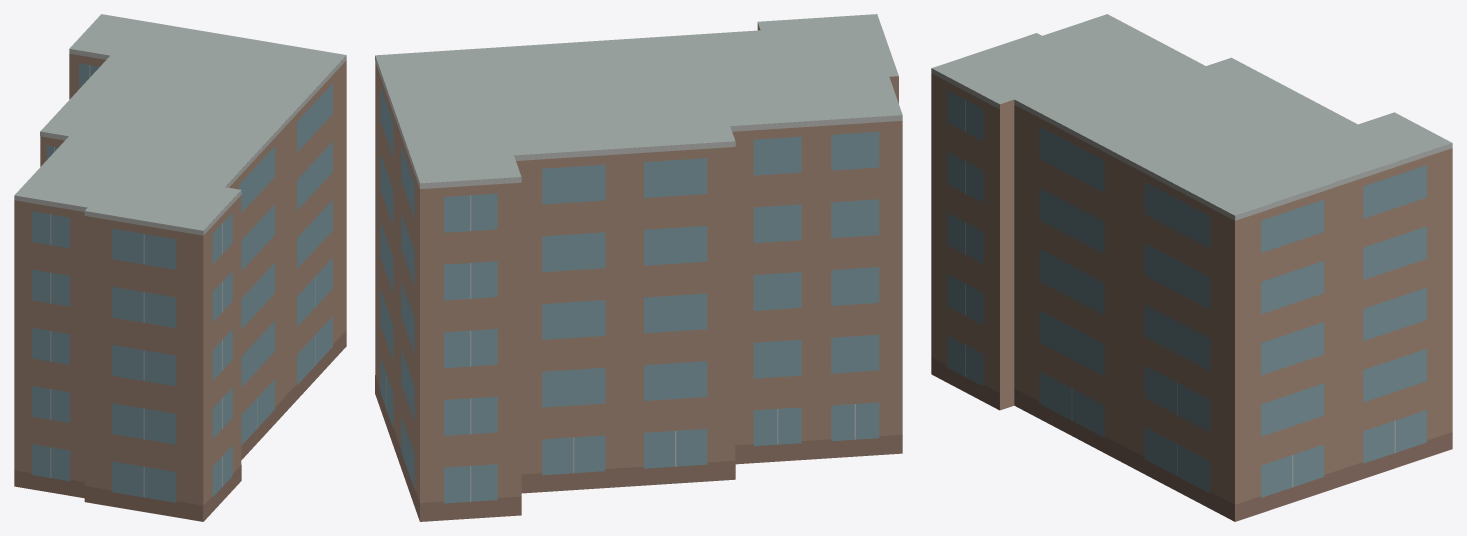
Rendered from survey-upis-32759315.glb.
3 views of the same model, side by side, from view 1: azimuth 30°, elevation 25°; view 2: azimuth 150°, elevation 25°; view 3: azimuth 270°, elevation 25° (orthographic). The views are drawn at different scales.
Parts seen in each view (by area): view 1: survey-upis-32759315.tmp; view 2: survey-upis-32759315.tmp; view 3: survey-upis-32759315.tmp.
Boxes of the visible parts, x1,y1,x2,y2 form: survey-upis-32759315.tmp: (14, 14, 346, 521); survey-upis-32759315.tmp: (375, 14, 902, 521); survey-upis-32759315.tmp: (931, 14, 1452, 521).
Bounding box in the file's own units: 20.64 × 14.6 × 22.53.
